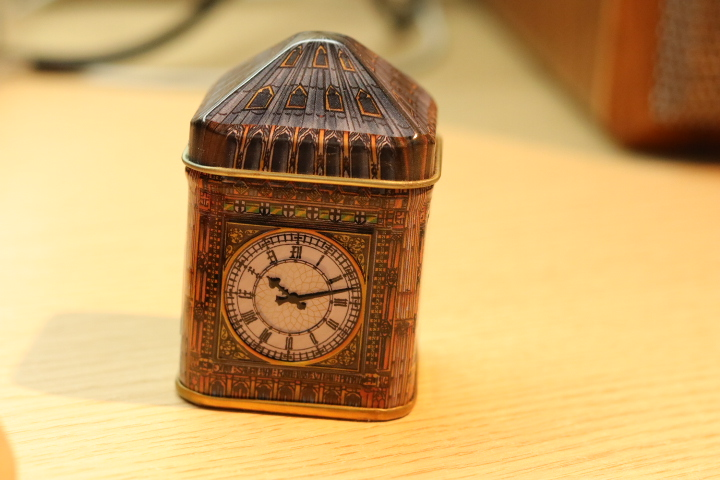Big Ben: (171, 24, 452, 428)
